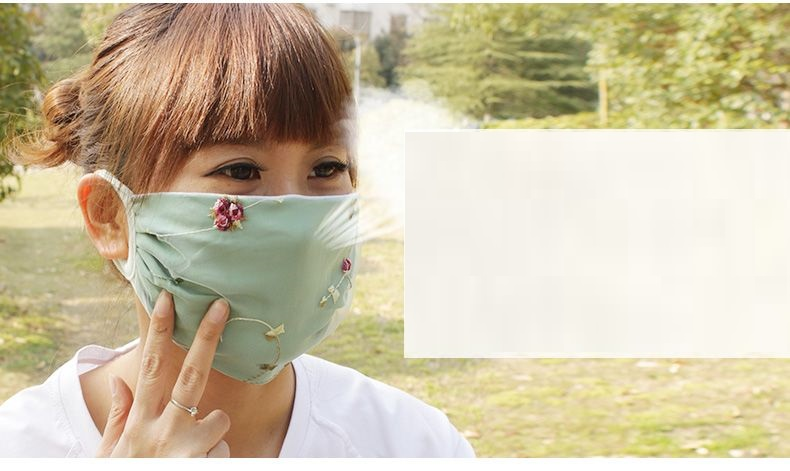face_mask: (158, 96, 358, 372)
